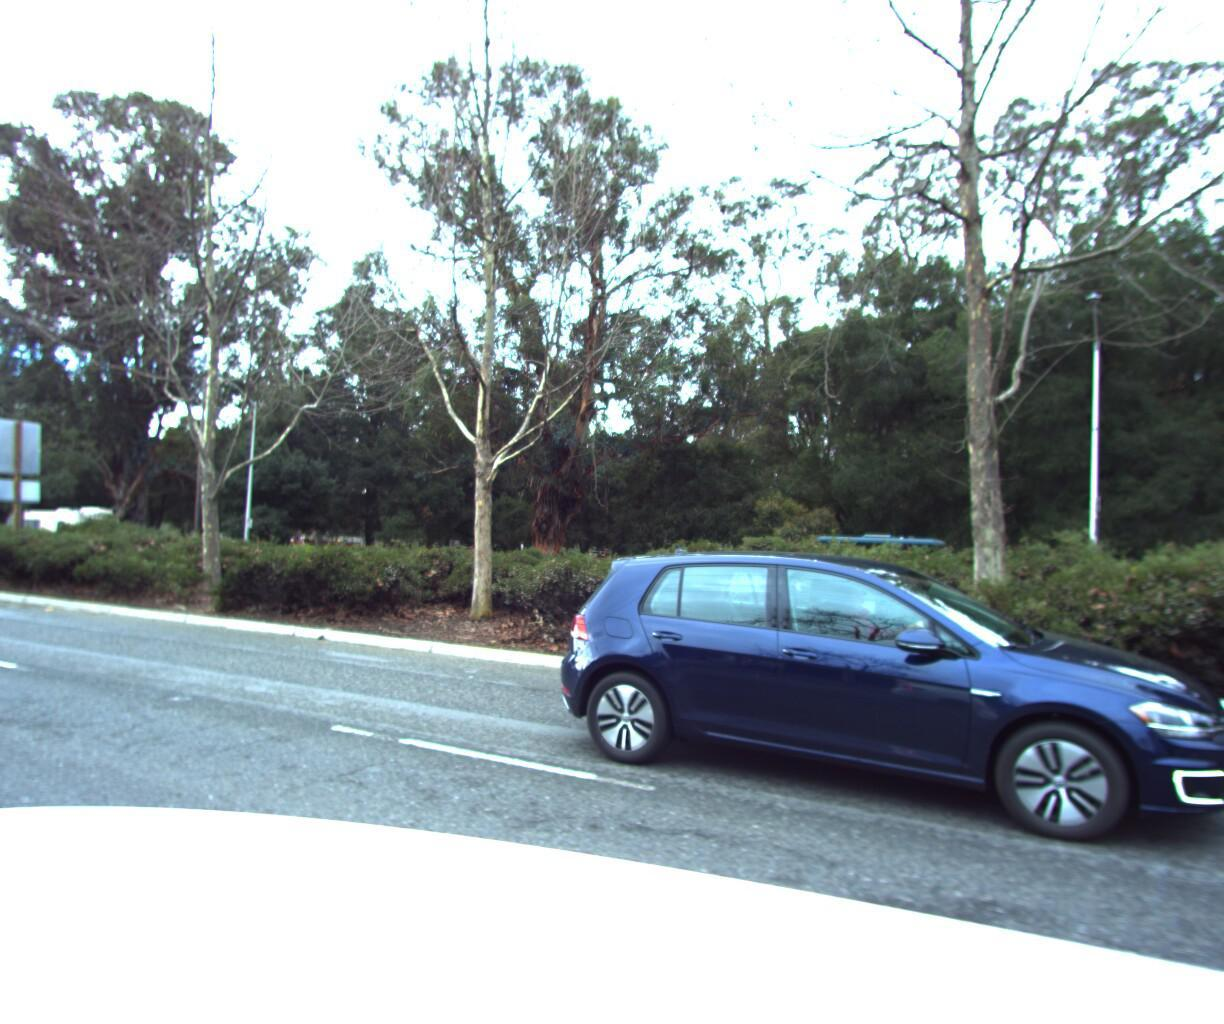car: (537, 526, 1214, 860)
other_vehicle: (2, 498, 126, 554)
